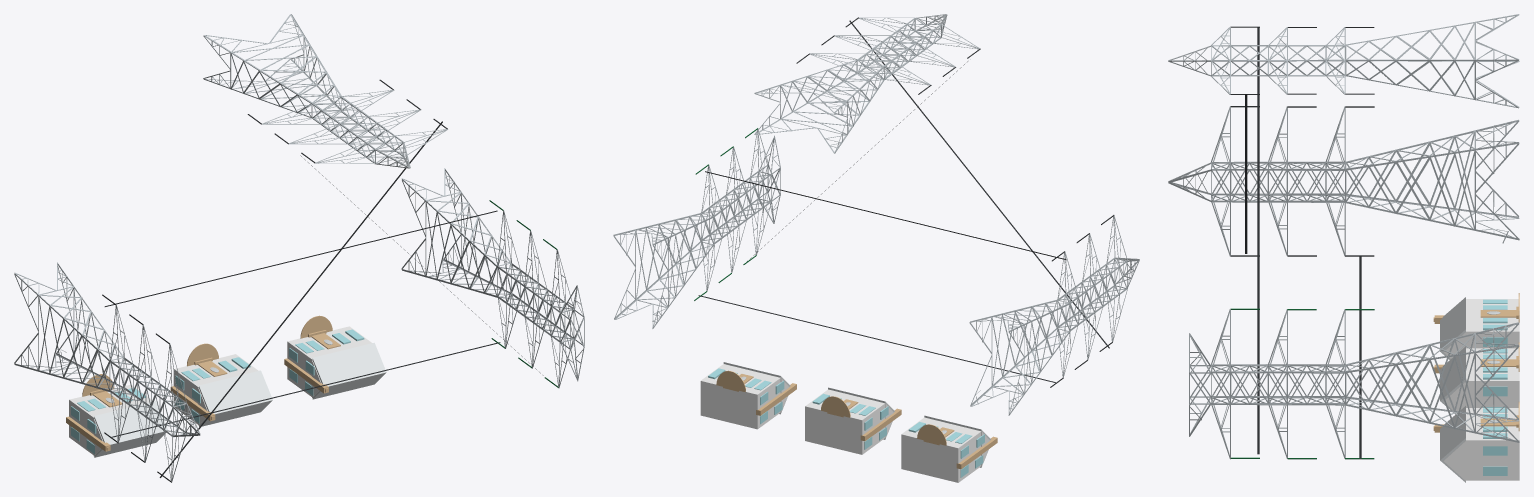
The model's file is tinker.obj.
3 renders of one model, left to right at view 1: azimuth 30°, elevation 25°; view 2: azimuth 150°, elevation 25°; view 3: azimuth 270°, elevation 25°, orthographic. The views are drawn at different scales.
Visible parts, largest first — view 1: group_12568524, group_14541540, group_16448250, group_14860437, group_2829873, group_11593967, group_10988977; view 2: group_12568524, group_16448250, group_14860437, group_2829873, group_11593967, group_14541540; view 3: group_12568524, group_16448250, group_2829873, group_14541540, group_11593967, group_14860437, group_10988977.
Boxes of the visible parts, box(x1,y1,x2,y2) form: group_12568524: box(14, 14, 584, 482); group_14541540: box(94, 339, 386, 457); group_16448250: box(69, 326, 372, 455); group_14860437: box(66, 315, 340, 451); group_2829873: box(102, 79, 543, 482); group_11593967: box(71, 329, 364, 454); group_10988977: box(173, 143, 410, 436); group_12568524: box(613, 17, 1127, 415); group_16448250: box(700, 364, 989, 482); group_14860437: box(716, 370, 997, 469); group_2829873: box(698, 17, 1114, 387); group_11593967: box(708, 368, 984, 477); group_14541540: box(723, 362, 990, 467); group_12568524: box(1189, 14, 1519, 459); group_16448250: box(1443, 299, 1519, 480); group_2829873: box(1230, 26, 1374, 459); group_14541540: box(1440, 297, 1500, 482); group_11593967: box(1483, 299, 1507, 475); group_14860437: box(1433, 293, 1519, 432); group_10988977: box(1168, 45, 1211, 202).
Size of the model in its own units: 91 by 75 by 60.
